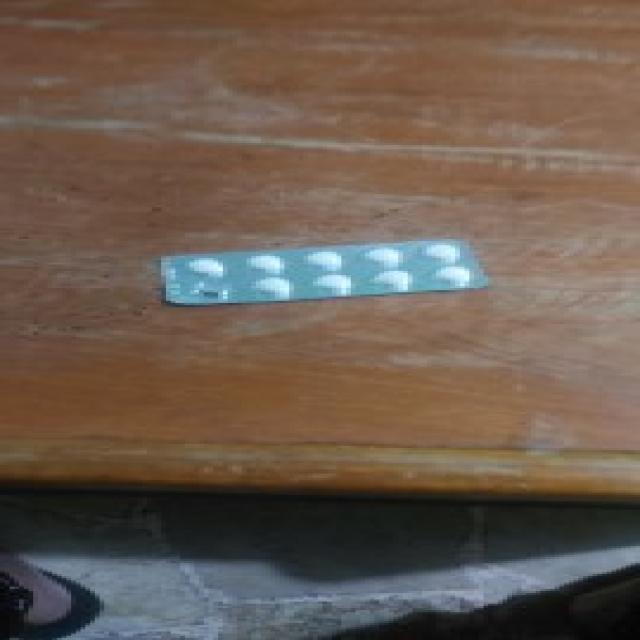Cacat: (150, 240, 496, 305)
Kemasan: (181, 282, 239, 302)
